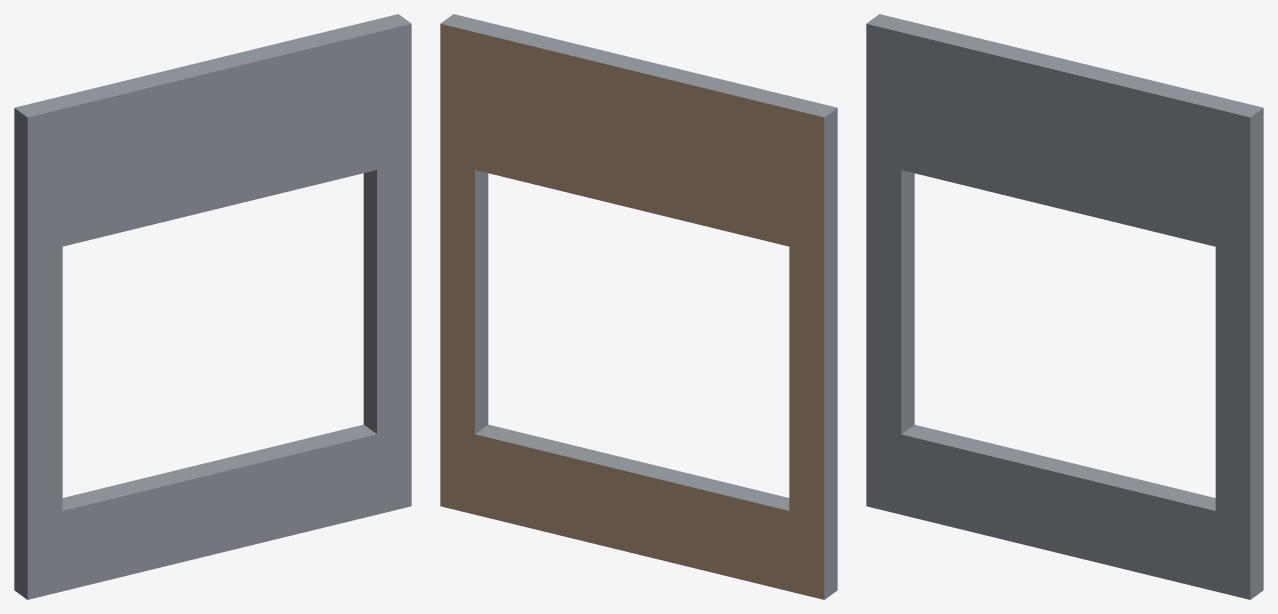
Rendered from Wall2_C6_05.fbx.
The picture shows the model from 3 angles, left to right: view 1: azimuth 30°, elevation 25°; view 2: azimuth 150°, elevation 25°; view 3: azimuth 330°, elevation 25°; orthographic projection.
Visible parts, largest first — view 1: Wall2_C6_05; view 2: Wall2_C6_05; view 3: Wall2_C6_05.
Boxes of the visible parts, x1=… form: Wall2_C6_05: x1=14, y1=14, x2=411, y2=599; Wall2_C6_05: x1=440, y1=14, x2=837, y2=599; Wall2_C6_05: x1=866, y1=14, x2=1263, y2=599.
Bounding box in the file's own units: 250 × 300 × 15.
